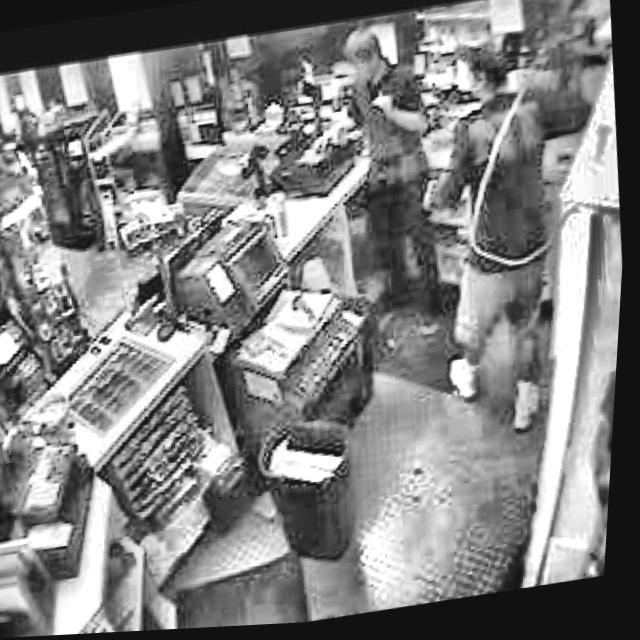Weapon: (441, 37, 613, 410), (314, 18, 466, 376)
